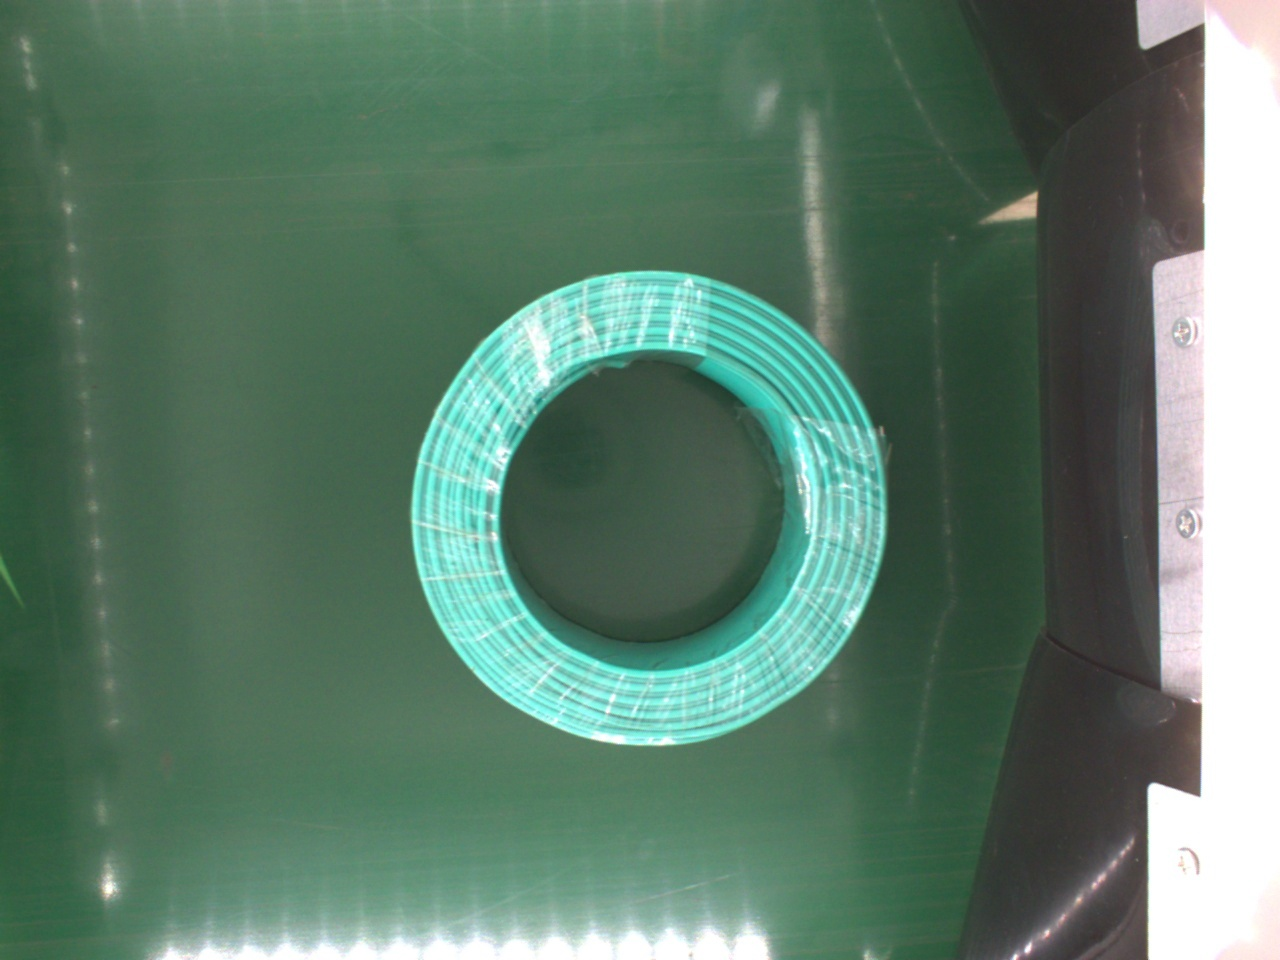green: (409, 268, 889, 750)
